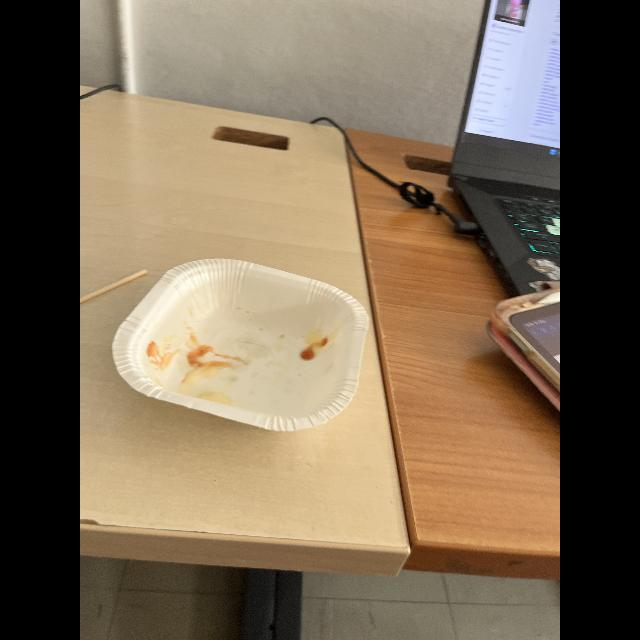cardboard_bowl: (110, 248, 378, 440)
stick: (80, 262, 154, 308)
